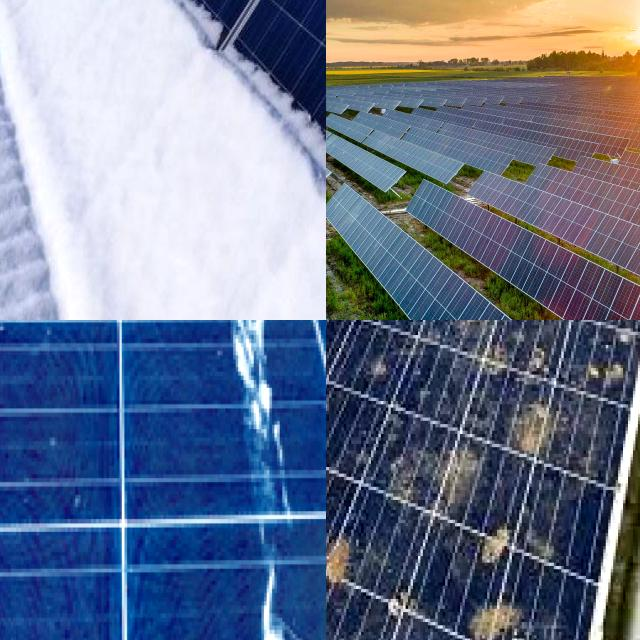bird: (226, 320, 320, 640), (465, 581, 550, 640), (426, 440, 492, 506), (378, 320, 470, 366), (584, 320, 640, 391), (502, 328, 559, 390), (504, 398, 560, 460), (326, 526, 361, 592), (360, 336, 402, 390), (374, 584, 428, 622), (580, 320, 617, 363), (481, 516, 518, 558), (436, 320, 468, 366), (326, 466, 353, 510), (326, 347, 363, 379), (326, 583, 346, 640), (504, 320, 550, 344), (615, 320, 640, 349)
panel: (137, 0, 253, 145), (256, 40, 326, 207), (79, 0, 155, 63), (0, 0, 66, 51)
